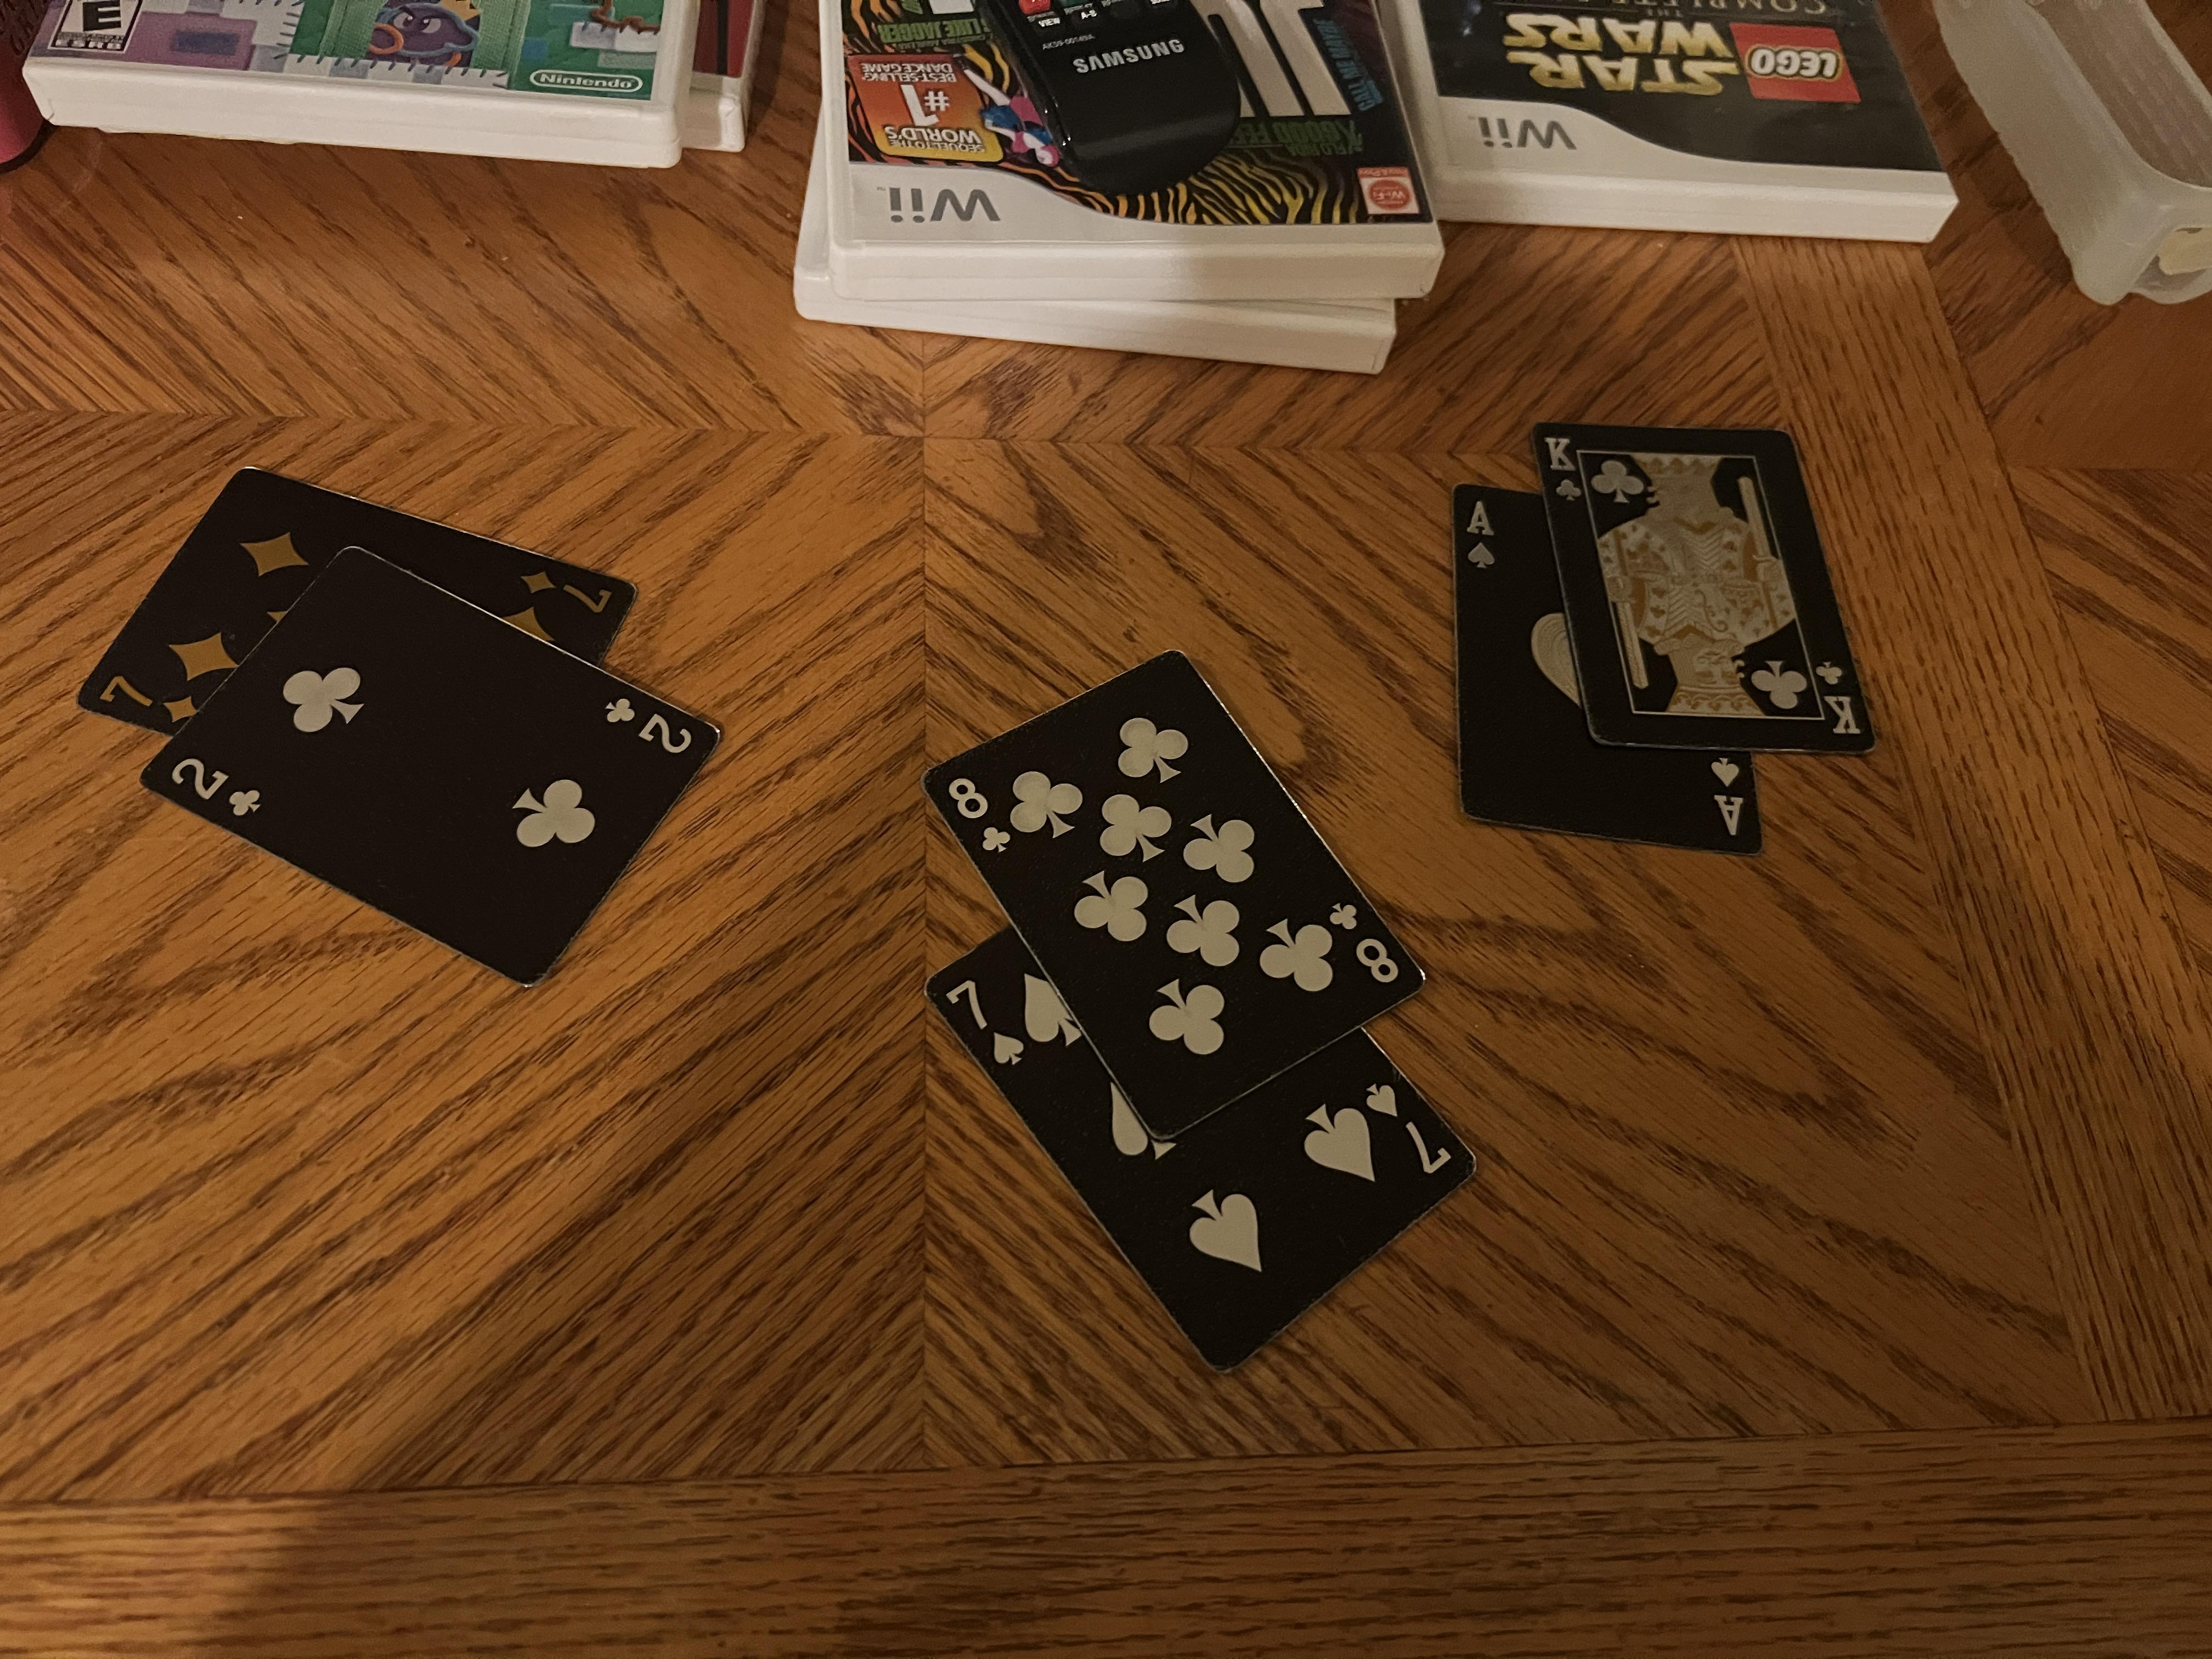2C: (1109, 112, 1214, 206), (1202, 444, 1301, 521)
7D: (1245, 59, 1331, 155), (1395, 382, 1461, 465)
7S: (634, 1023, 786, 1098), (765, 701, 925, 769)
8C: (895, 990, 1035, 1056), (1055, 709, 1181, 769)
AS: (1096, 1279, 1209, 1317), (1451, 1094, 1561, 1133)
BACK: (1224, 1361, 1364, 1396)
KC: (1540, 1157, 1646, 1194)
